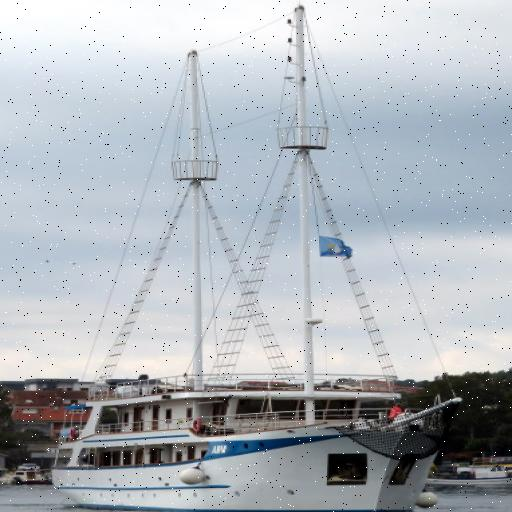cruises: (48, 357, 466, 512)
